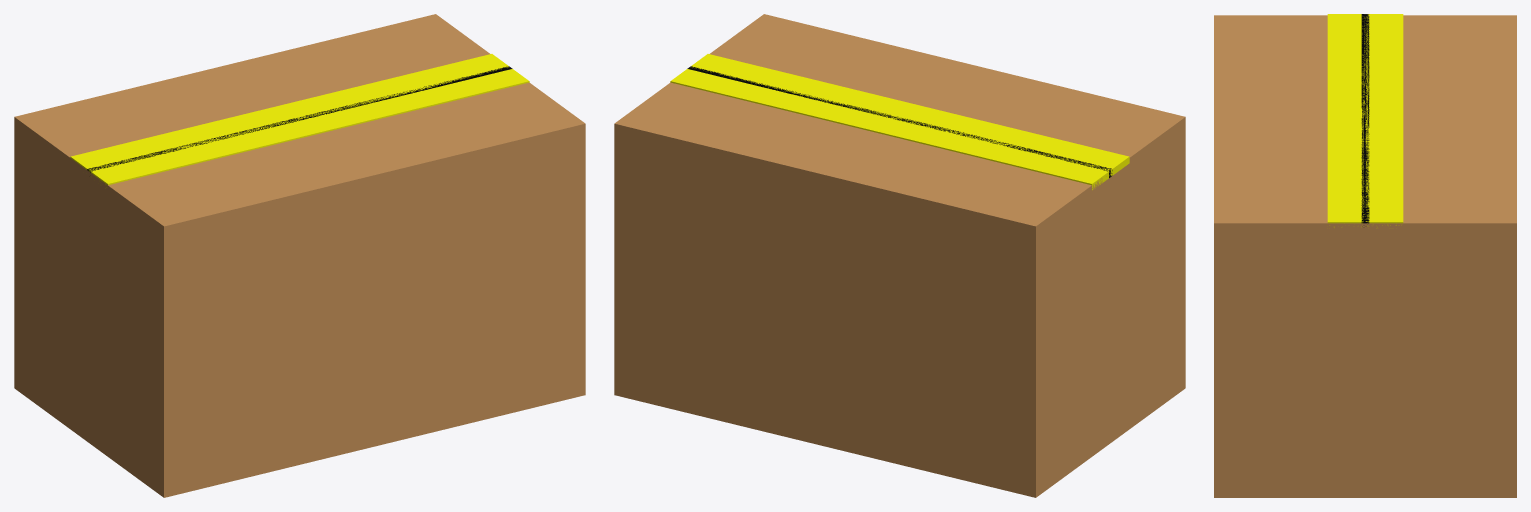
The model's file is kardus_tertutup.glb.
The picture shows the model from 3 angles, left to right: view 1: azimuth 30°, elevation 25°; view 2: azimuth 150°, elevation 25°; view 3: azimuth 270°, elevation 25°; orthographic projection.
Visible parts, largest first — view 1: Cube, Cube.002, Cube.001; view 2: Cube, Cube.002, Cube.001; view 3: Cube, Cube.002, Cube.001.
Boxes of the visible parts, x1,y1,x2,y2 form: Cube: [14, 14, 585, 497]; Cube.002: [70, 54, 529, 188]; Cube.001: [87, 66, 512, 172]; Cube: [614, 14, 1185, 497]; Cube.002: [670, 54, 1129, 190]; Cube.001: [687, 66, 1112, 177]; Cube: [1214, 15, 1516, 497]; Cube.002: [1327, 14, 1403, 228]; Cube.001: [1361, 14, 1369, 223].
Bounding box in the file's own units: 65 × 40.2 × 40.
